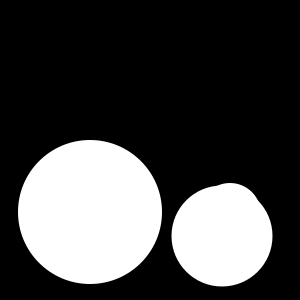rectangle: (18, 140, 162, 284), (172, 186, 272, 286), (199, 183, 261, 245)
